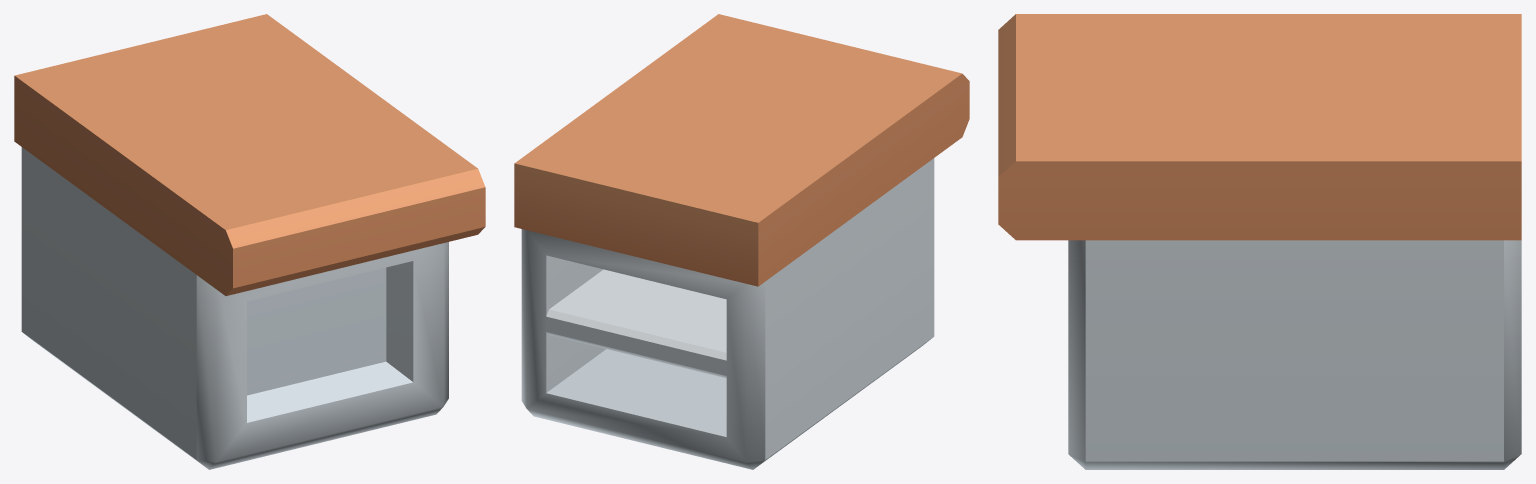
The model's file is countertop-straight-a-short.glb.
The picture shows the model from 3 angles, left to right: view 1: azimuth 30°, elevation 25°; view 2: azimuth 150°, elevation 25°; view 3: azimuth 270°, elevation 25°; orthographic projection. The views are drawn at different scales.
Parts seen in each view (by area): view 1: countertop_straight_A_short; view 2: countertop_straight_A_short; view 3: countertop_straight_A_short.
Part boxes in pixels (x1,y1,x2,y2): countertop_straight_A_short: (14, 14, 485, 469); countertop_straight_A_short: (514, 14, 969, 469); countertop_straight_A_short: (998, 14, 1521, 469).
Size of the model in its own units: 1 by 1 by 1.5.
1 material, 1 textured.
